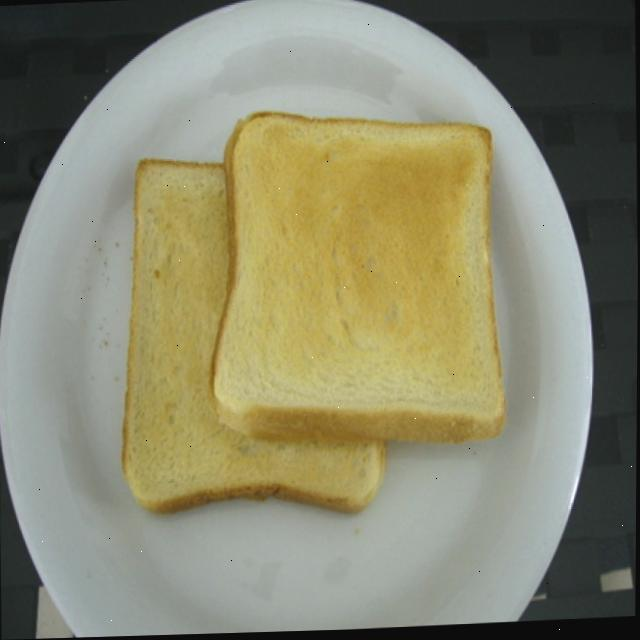面包点心: (108, 105, 506, 511)
